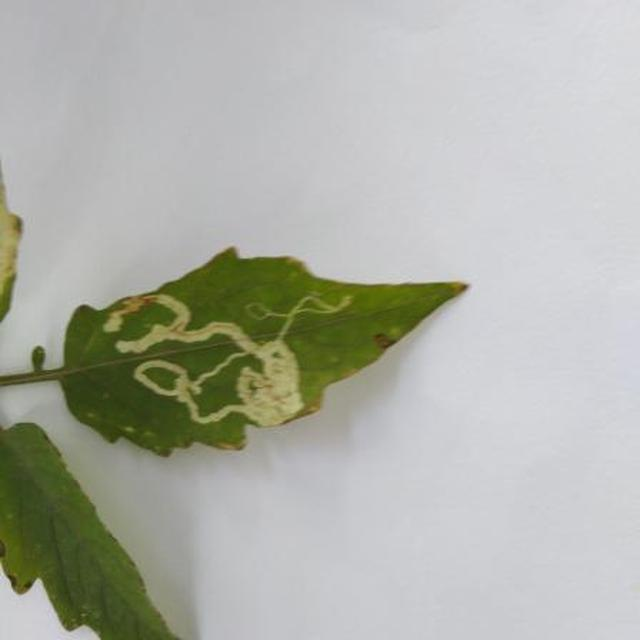Leaf Miner: (87, 352, 640, 640)
